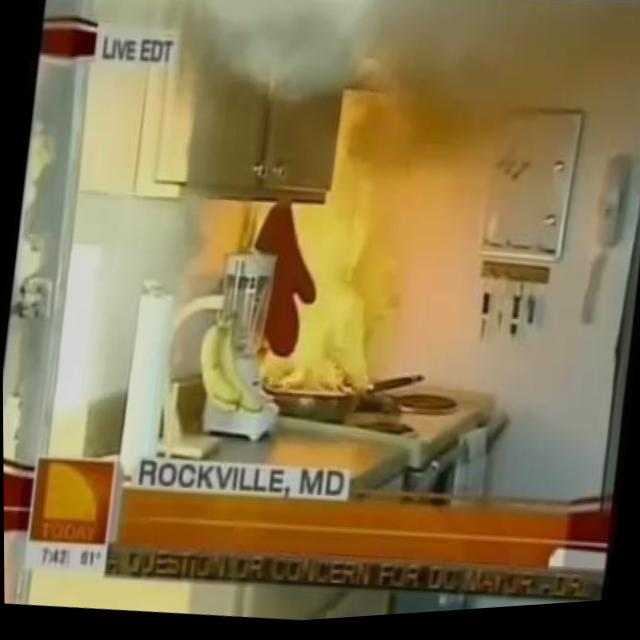fire: (229, 77, 424, 415)
